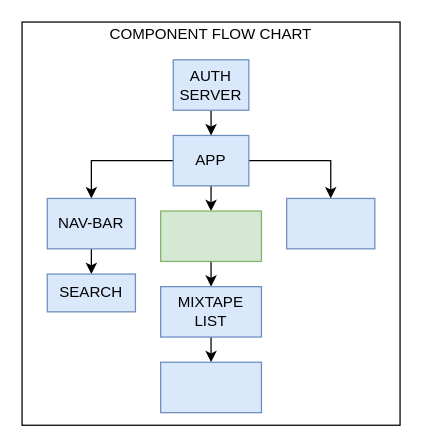
Image size: 422x447. Some labels were removed from this diagram. Each missing label, with the centre of its shape:
"HEADER + PHOTO" goes at point 330,223.
"MIXTAPE" goes at point 210,387.
"MIXTAPE CONTROL" goes at point 210,235.
